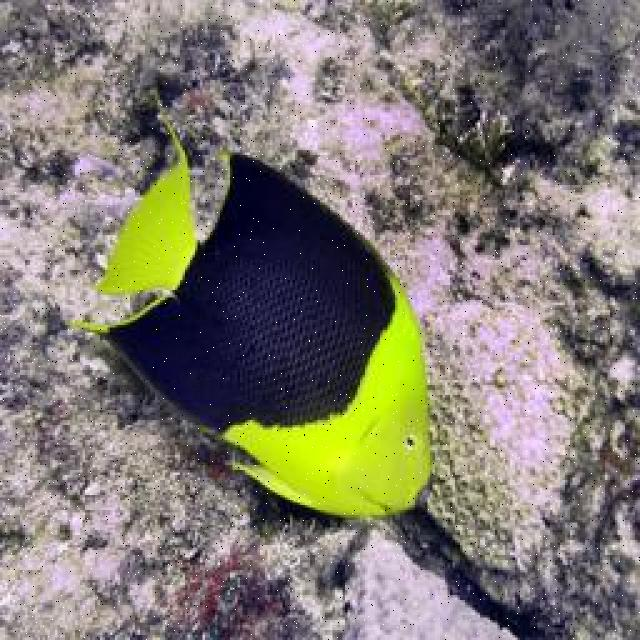fish: (67, 114, 431, 517)
